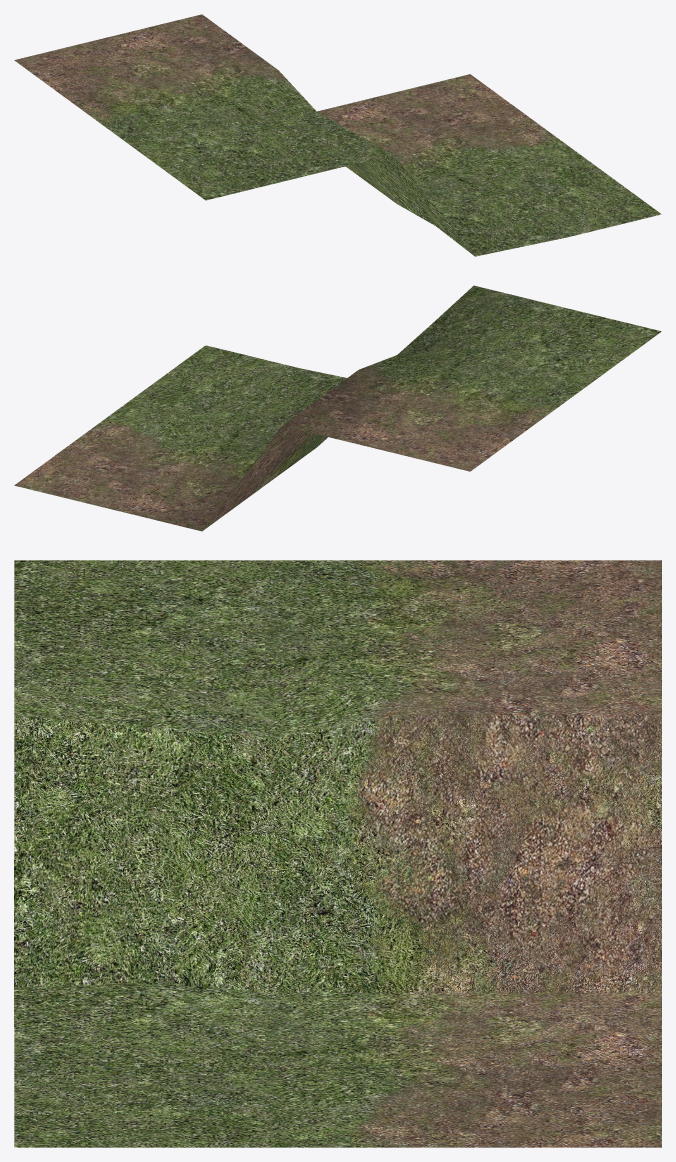
Rendered from Terrenos.fbx.
3 views of the same model, one above another, from view 1: azimuth 30°, elevation 25°; view 2: azimuth 150°, elevation 25°; view 3: azimuth 270°, elevation 25° (orthographic). The views are drawn at different scales.
Parts seen in each view (by area): view 1: Plane001; view 2: Plane001; view 3: Plane001.
Part boxes in pixels (x1,y1,x2,y2): Plane001: (14,14,661,256); Plane001: (14,285,661,531); Plane001: (14,560,661,1147).
Size of the model in its own units: 412 by 108 by 300.
1 material, 1 textured.
